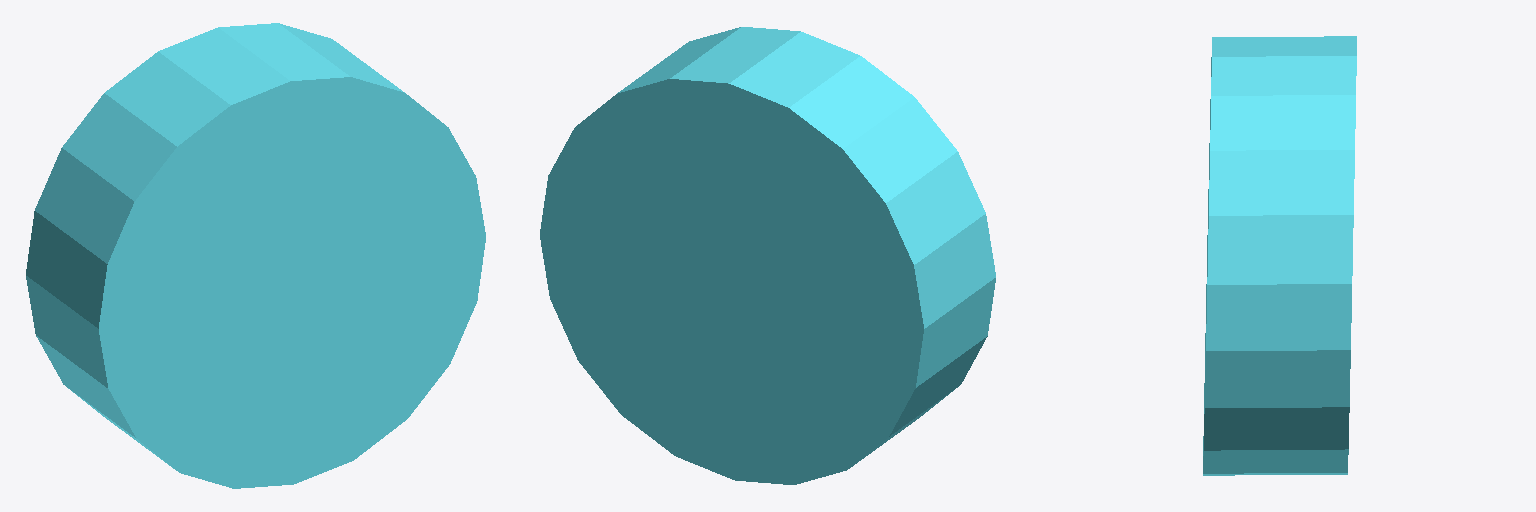
3 views of the same model, side by side, from view 1: azimuth 30°, elevation 25°; view 2: azimuth 150°, elevation 25°; view 3: azimuth 270°, elevation 25° (orthographic).
Parts seen in each view (by area): view 1: polySurface711polySurface486; view 2: polySurface711polySurface486; view 3: polySurface711polySurface486.
Part boxes in pixels (left/top/right/bottom): polySurface711polySurface486: left=26, top=23, right=485, bottom=488; polySurface711polySurface486: left=540, top=27, right=995, bottom=484; polySurface711polySurface486: left=1203, top=36, right=1356, bottom=475.
Bounding box in the file's own units: 0.0625 × 0.0619 × 0.0216.
1 materials, 1 textured.